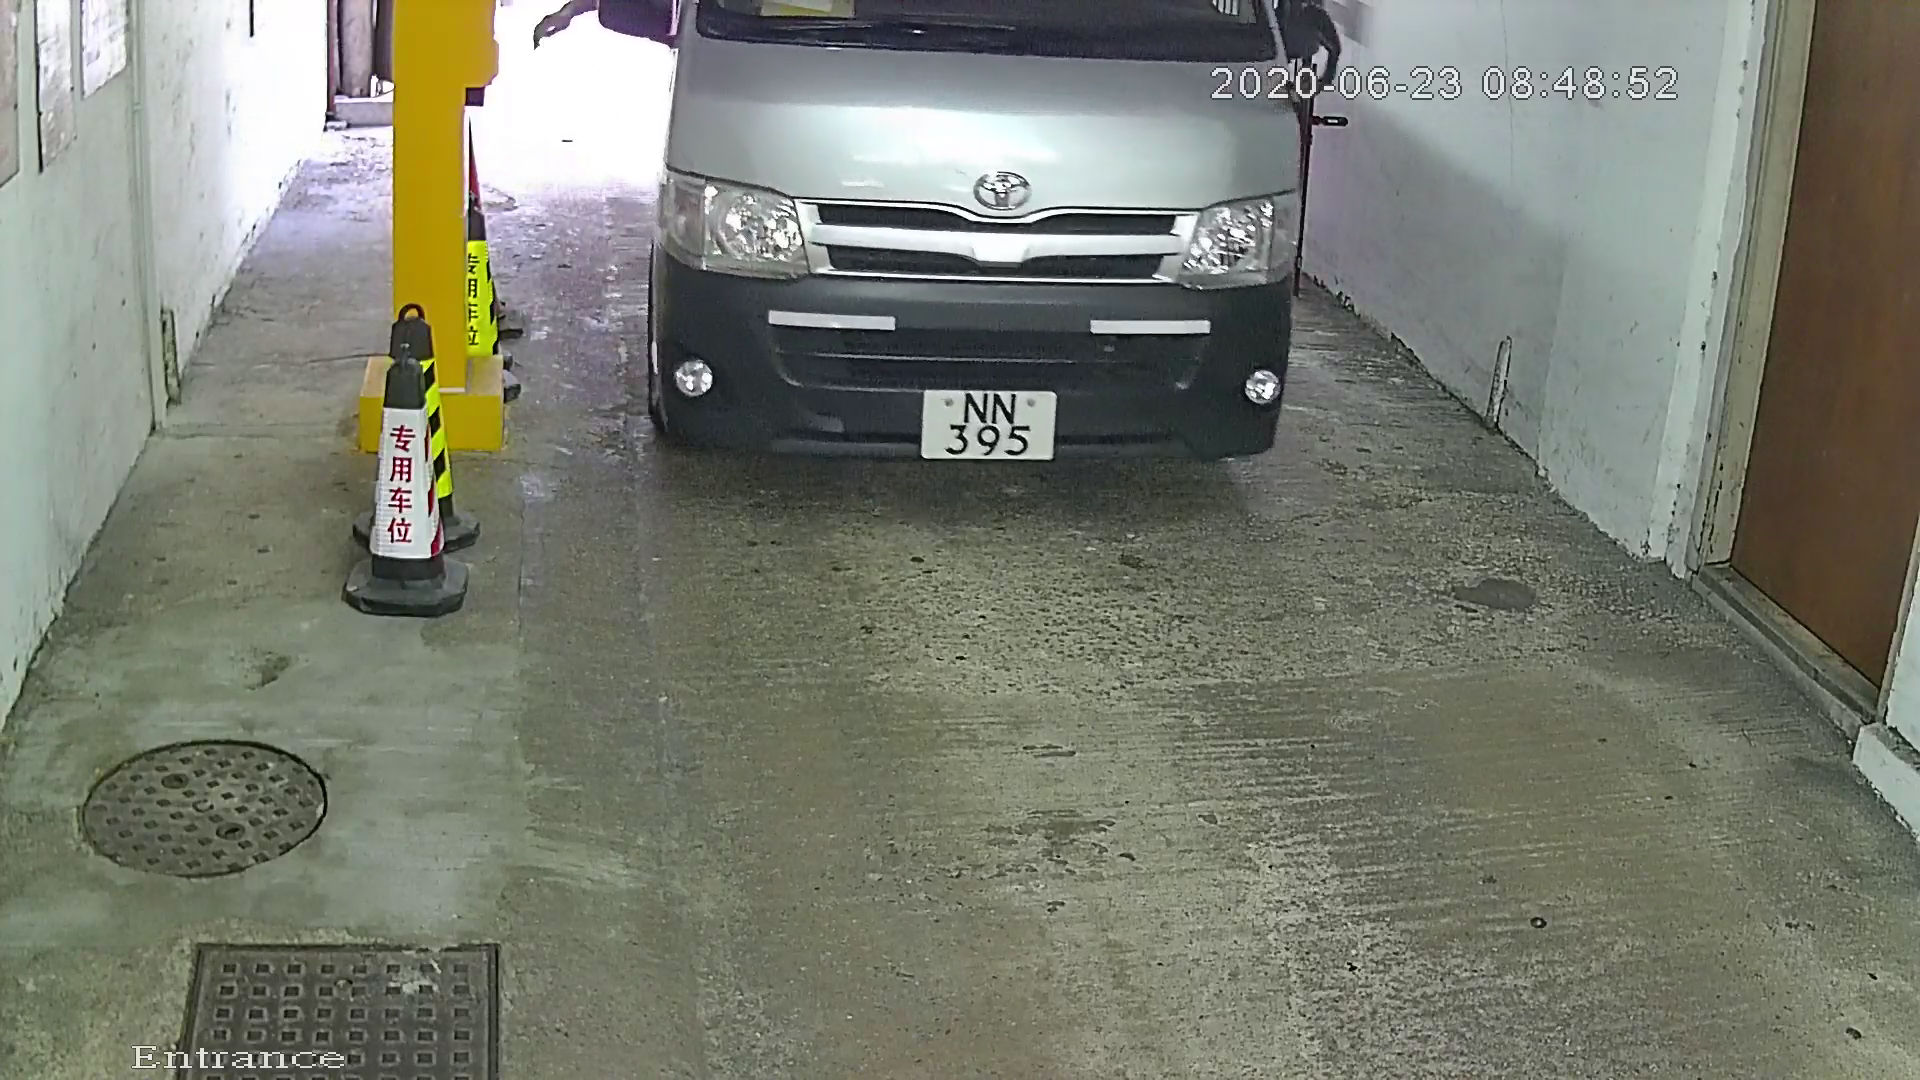van_s: (531, 3, 1389, 580)
